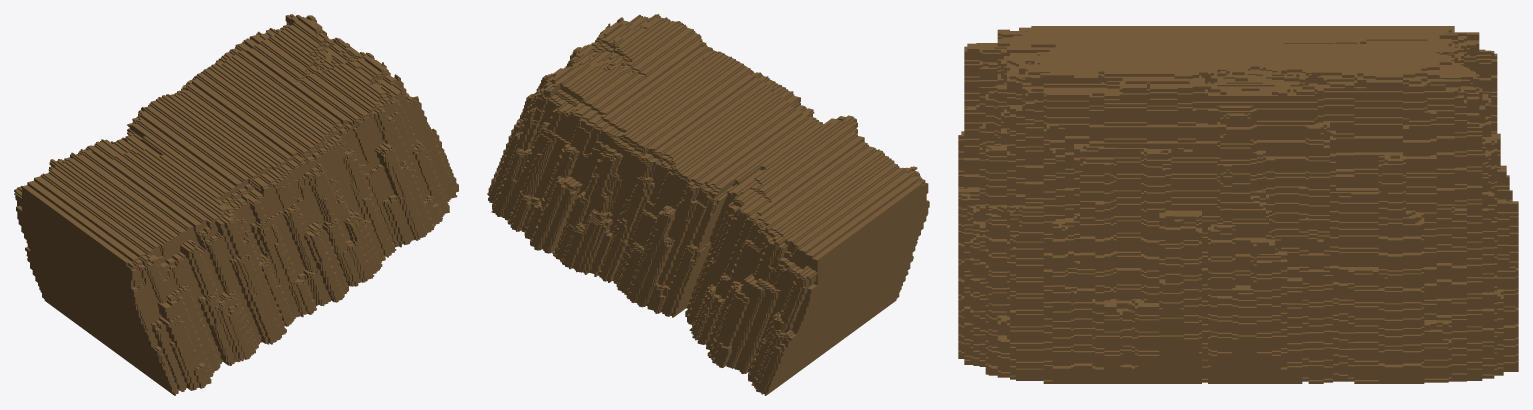
The model's file is forest1.2-150.obj.
3 views of the same model, side by side, from view 1: azimuth 30°, elevation 25°; view 2: azimuth 150°, elevation 25°; view 3: azimuth 270°, elevation 25° (orthographic). The views are drawn at different scales.
Bounding box in the file's own units: 25.6 × 17.7 × 18.4.
Materials: 1 (1 with a texture image).
